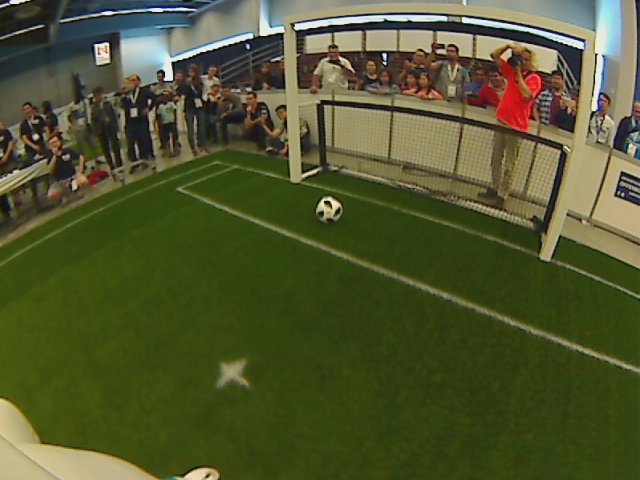ball: (312, 194, 345, 228)
goalpost: (528, 240, 560, 276), (279, 161, 308, 195)
